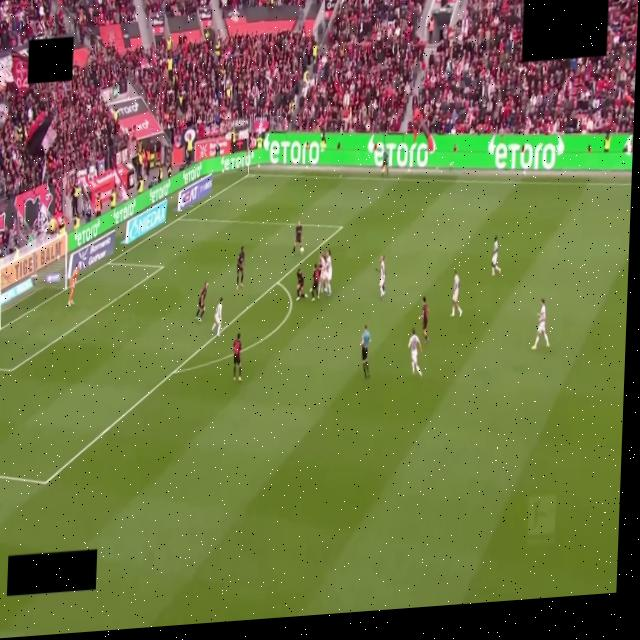ball: (300, 247, 304, 254)
player: (532, 299, 549, 349), (408, 328, 421, 376), (451, 270, 462, 317), (196, 282, 208, 321), (68, 266, 79, 306), (232, 333, 241, 381), (419, 297, 428, 341), (376, 256, 385, 299), (212, 298, 222, 336), (324, 250, 332, 296), (237, 246, 245, 290), (296, 268, 307, 300), (492, 236, 501, 275), (318, 250, 325, 298), (293, 221, 302, 255), (311, 264, 319, 301)
referee: (361, 324, 370, 379)
